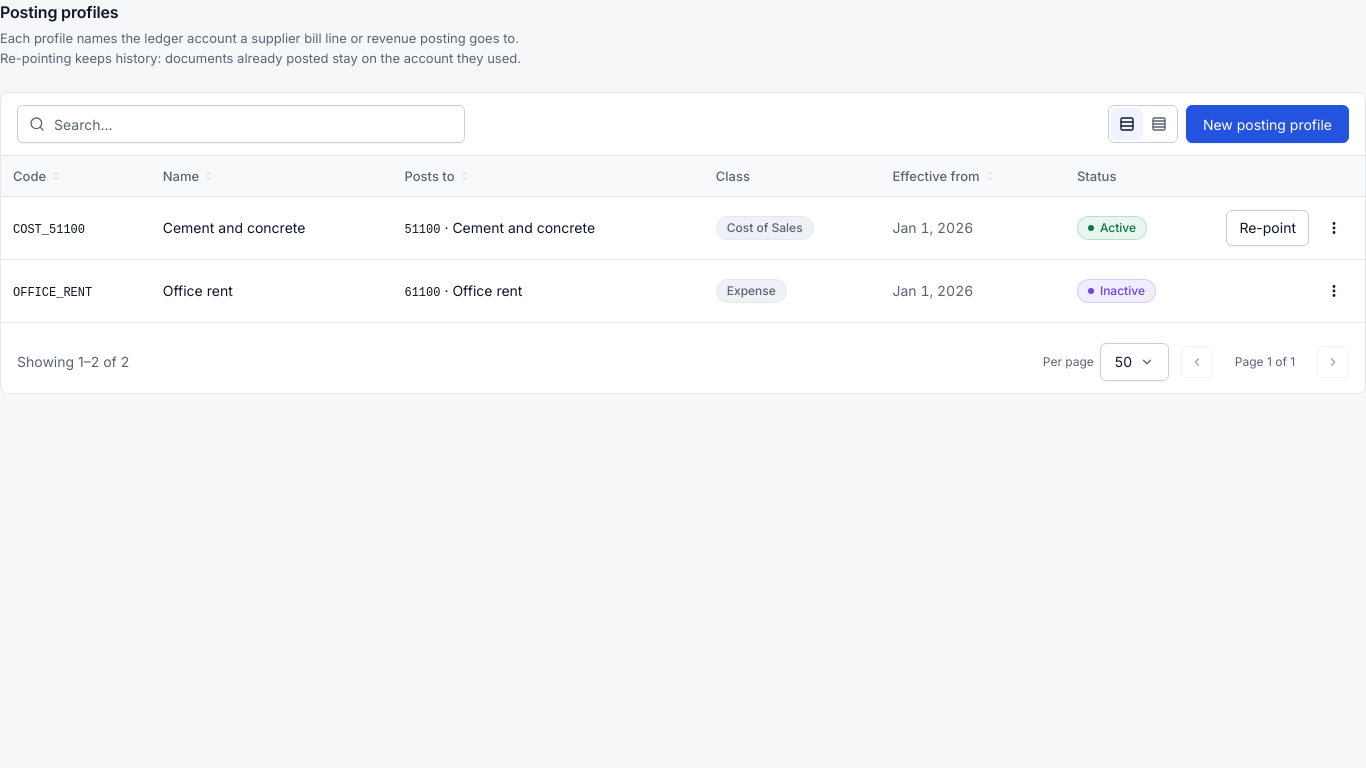
Test: PostingProfiles — creating › derives the code from the name, offers only eligible accounts, and sends the body
Expected: the text "COST_51100" is shown, [13,222,85,236]
Click the button "New posting profile" at point(1267, 124), box [1186,105,1349,143]
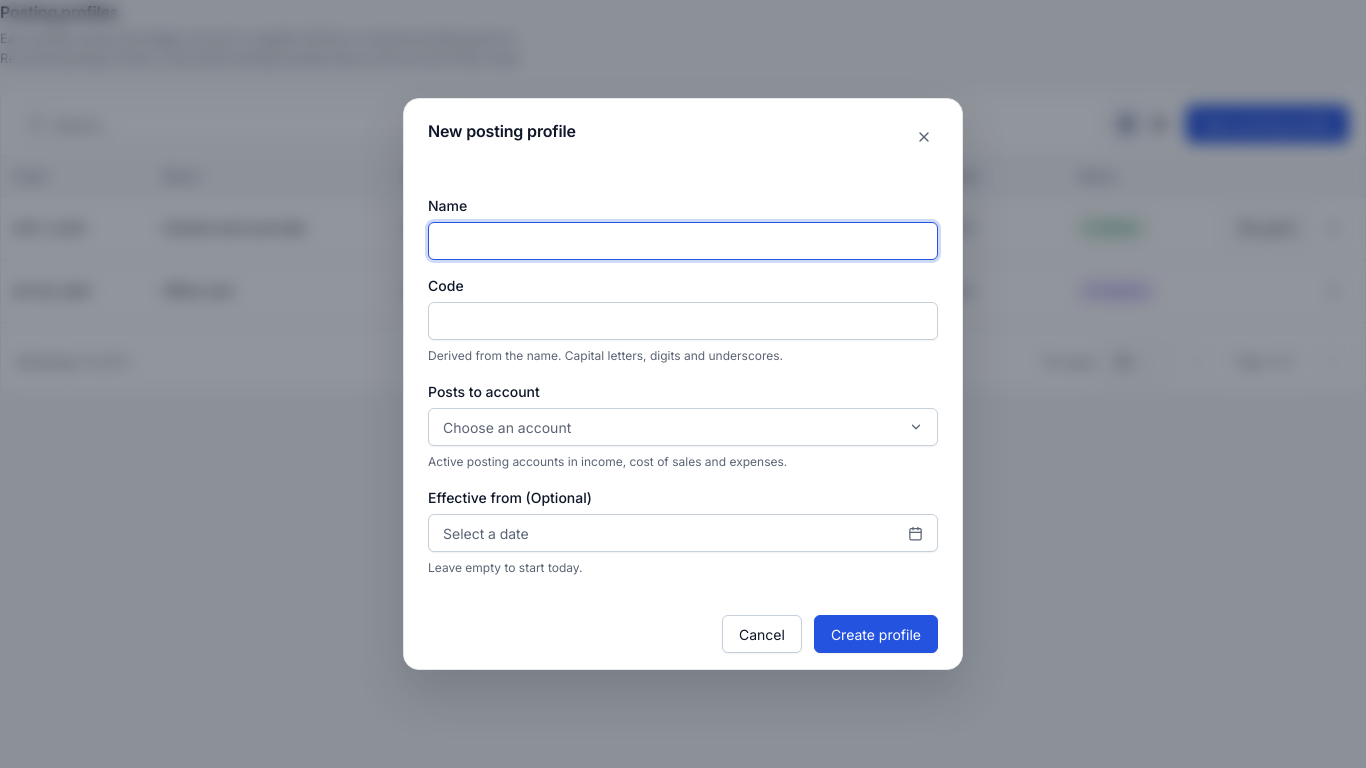
Type "Site steel" into the field labelled "Name" at point(683, 241), box [428,222,938,260]
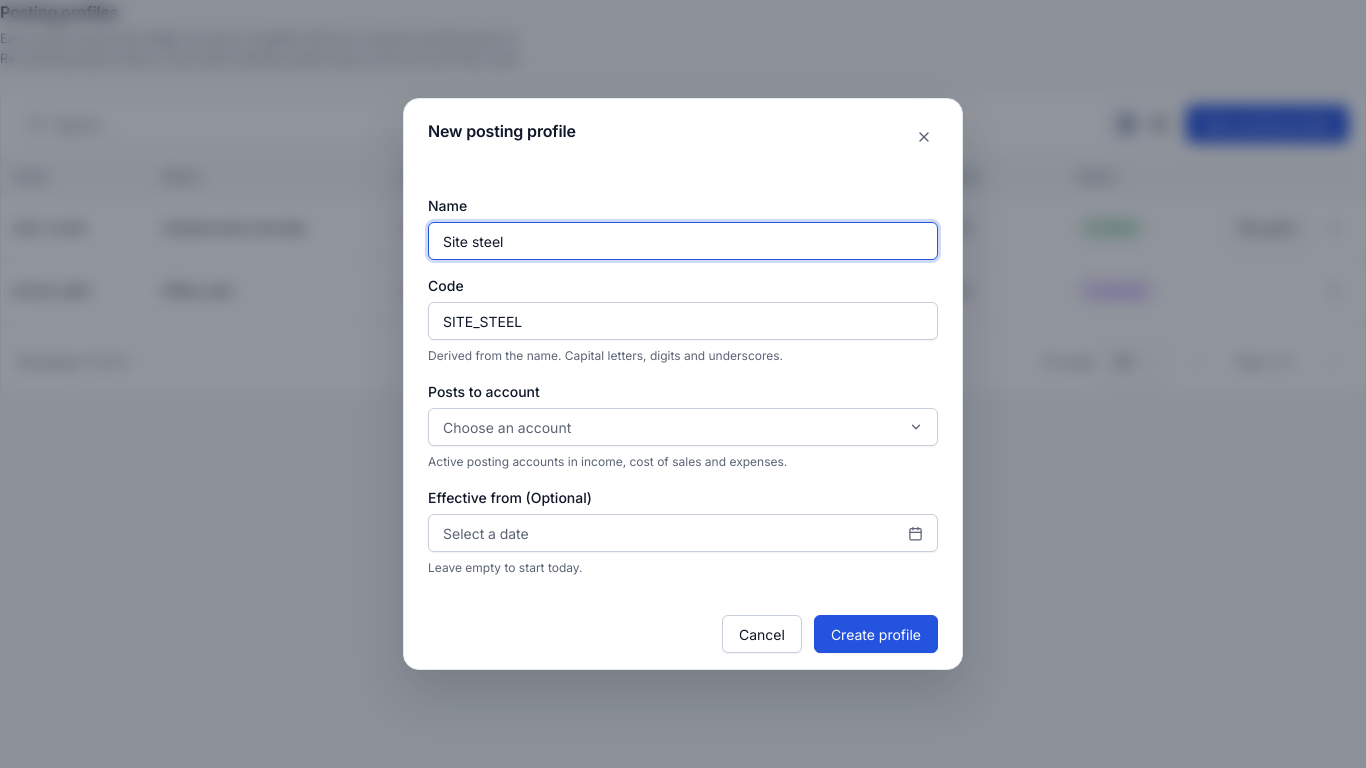
Result: the field labelled "Code" holds "SITE_STEEL" at [428,302,938,340]
Click the dropdown named "Posts to account" at point(507, 427), box [428,408,938,446]
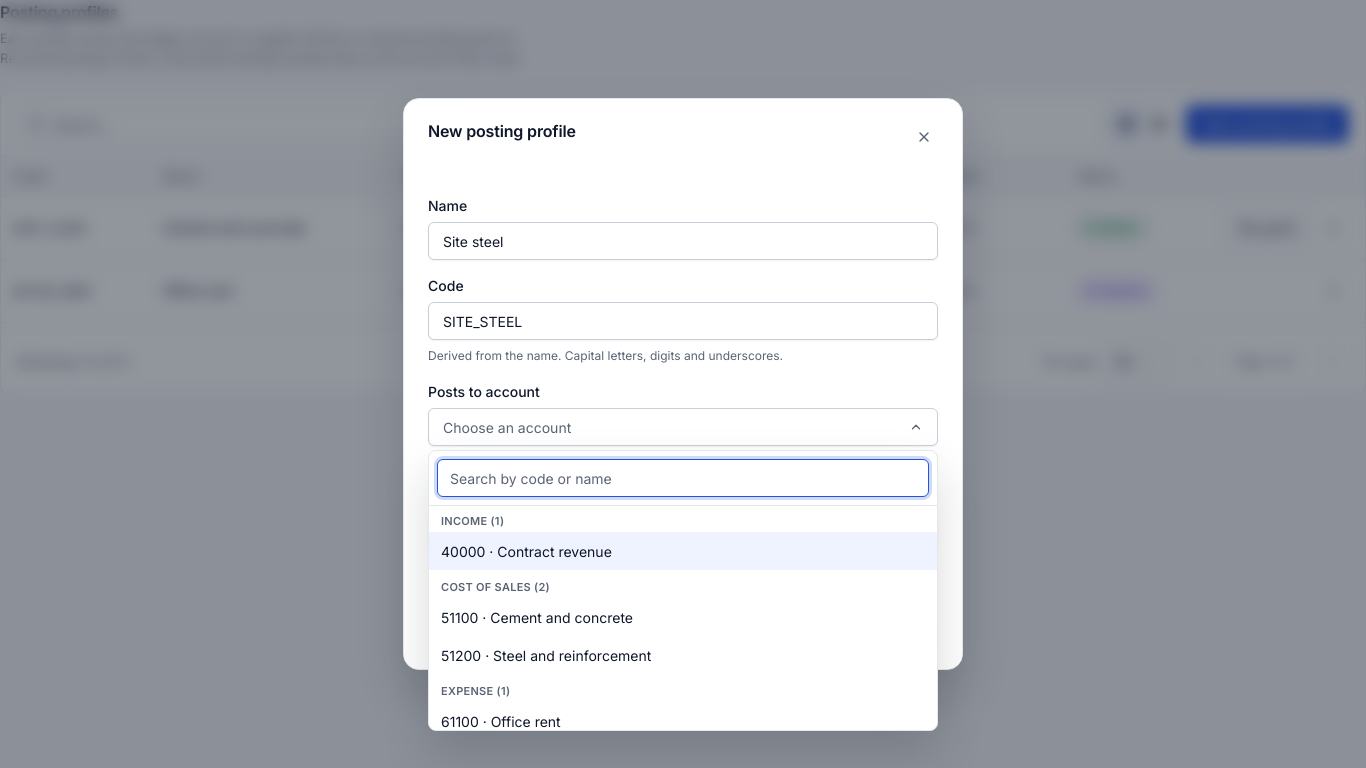
Result: the list is shown at [429,506,937,730]
Click the option "51200 · Steel and reinforcement" at point(546, 655), box [429,636,937,674]
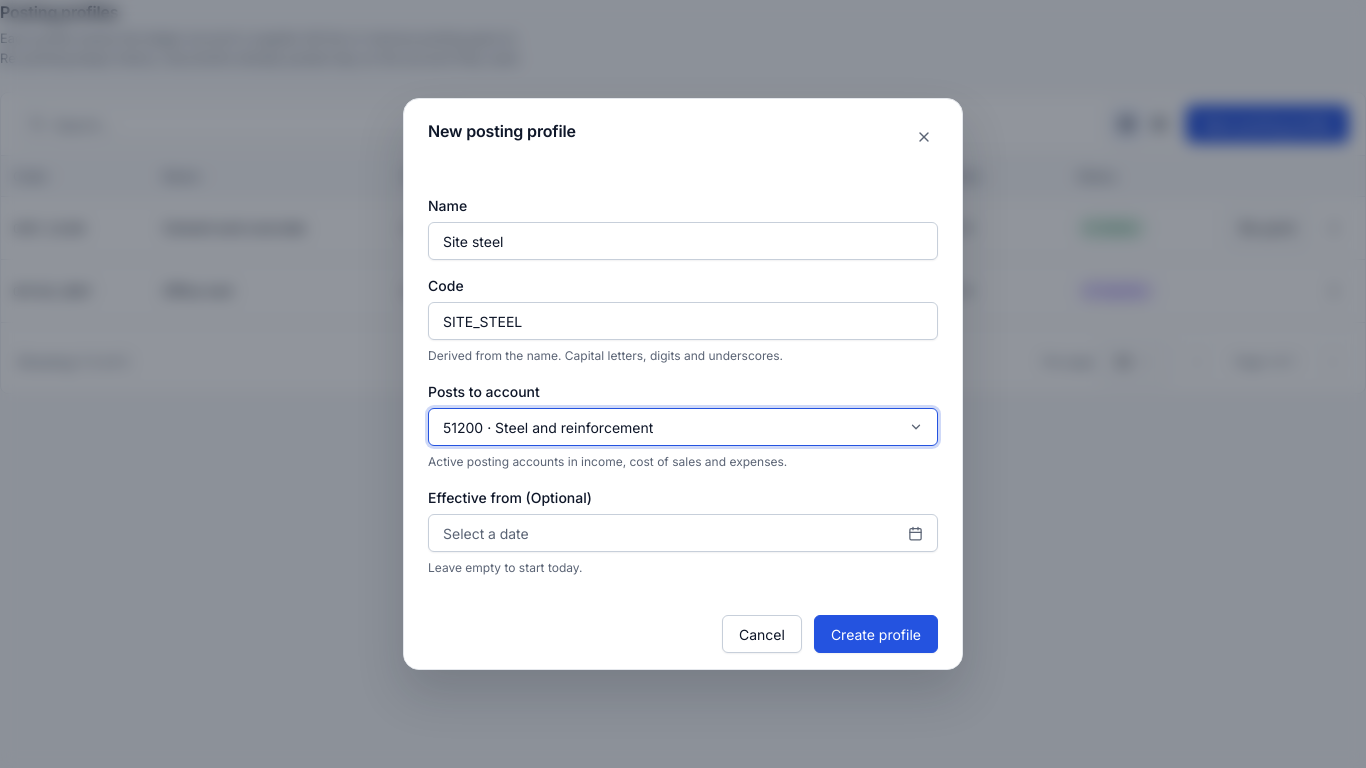
Click the button "Create profile" at point(876, 634), box [814,615,938,653]
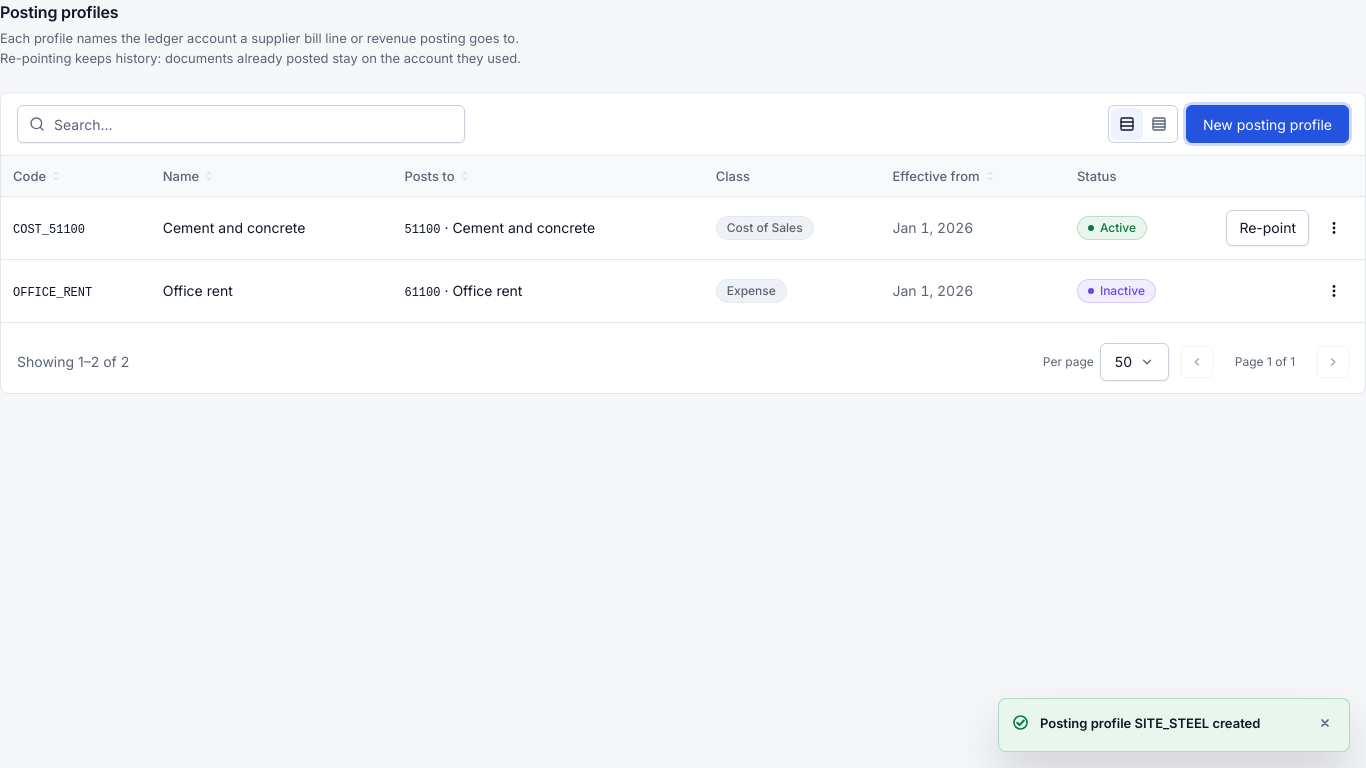
Result: the text "Posting profile SITE_STEEL created" is shown at [1040,713,1299,733]
